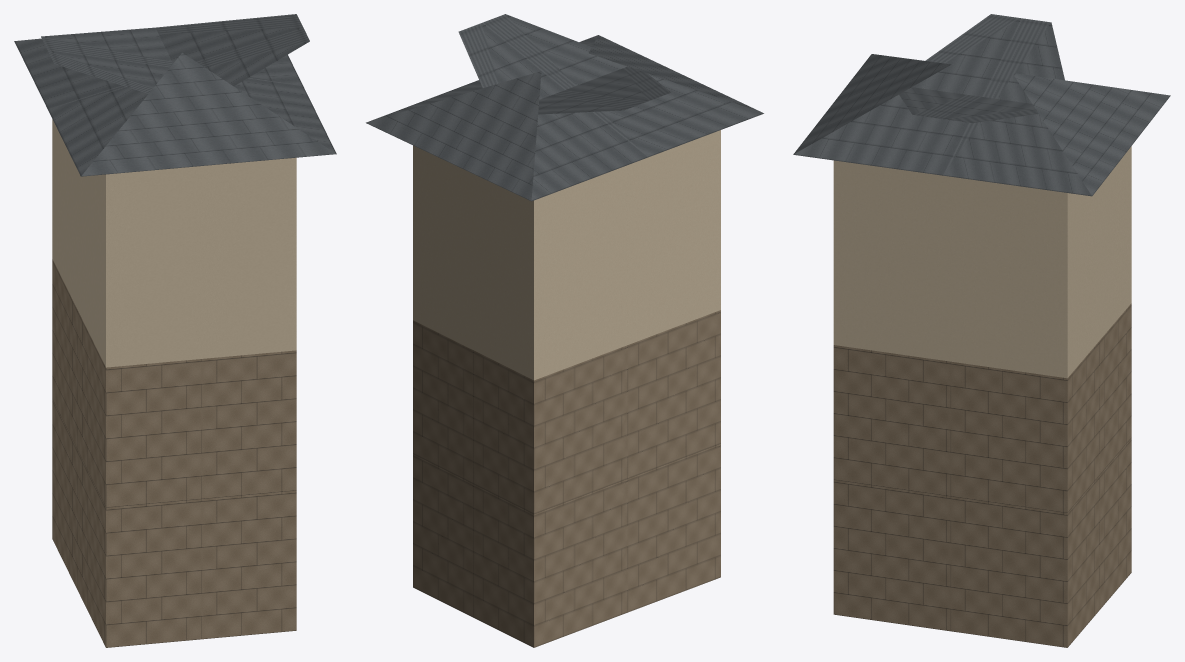
File: bld_c18_22_442.gltf
3 renders of one model, left to right at view 1: azimuth 30°, elevation 25°; view 2: azimuth 150°, elevation 25°; view 3: azimuth 270°, elevation 25°, orthographic. The views are drawn at different scales.
Visible parts, largest first — view 1: bld_c18_22_442; view 2: bld_c18_22_442; view 3: bld_c18_22_442.
Part boxes in pixels (x1,y1,x2,y2): bld_c18_22_442: (14, 14, 336, 647); bld_c18_22_442: (366, 14, 763, 647); bld_c18_22_442: (793, 14, 1170, 647).
Size of the model in its own units: 5.41 by 9.3 by 6.06.
Materials: 3 (3 with a texture image).
